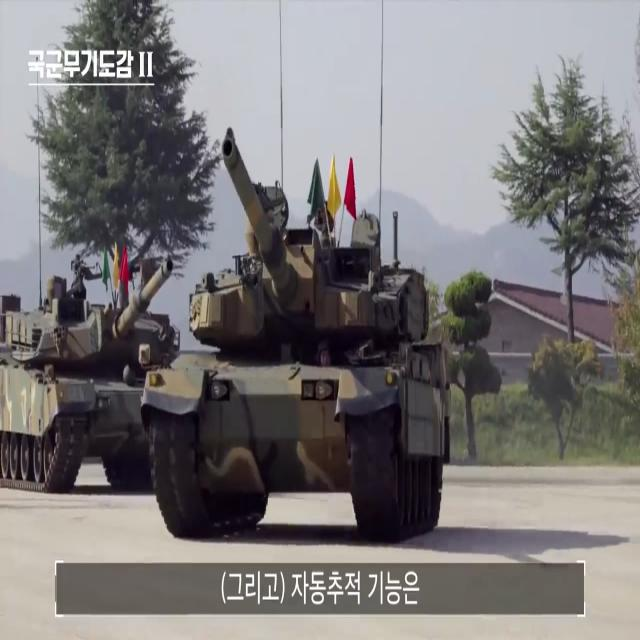korea tank: (137, 124, 455, 543)
